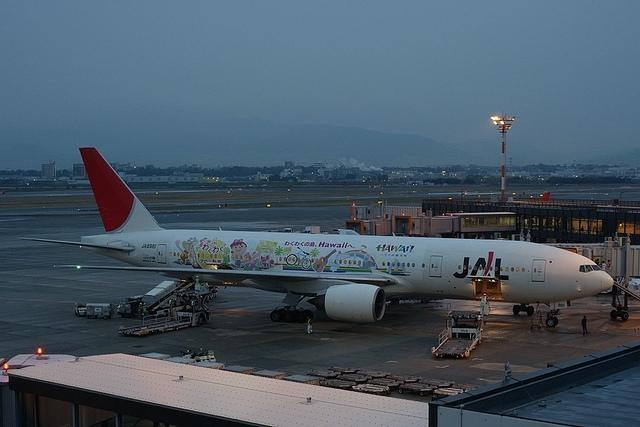truck: (115, 288, 213, 338), (76, 302, 132, 318)
